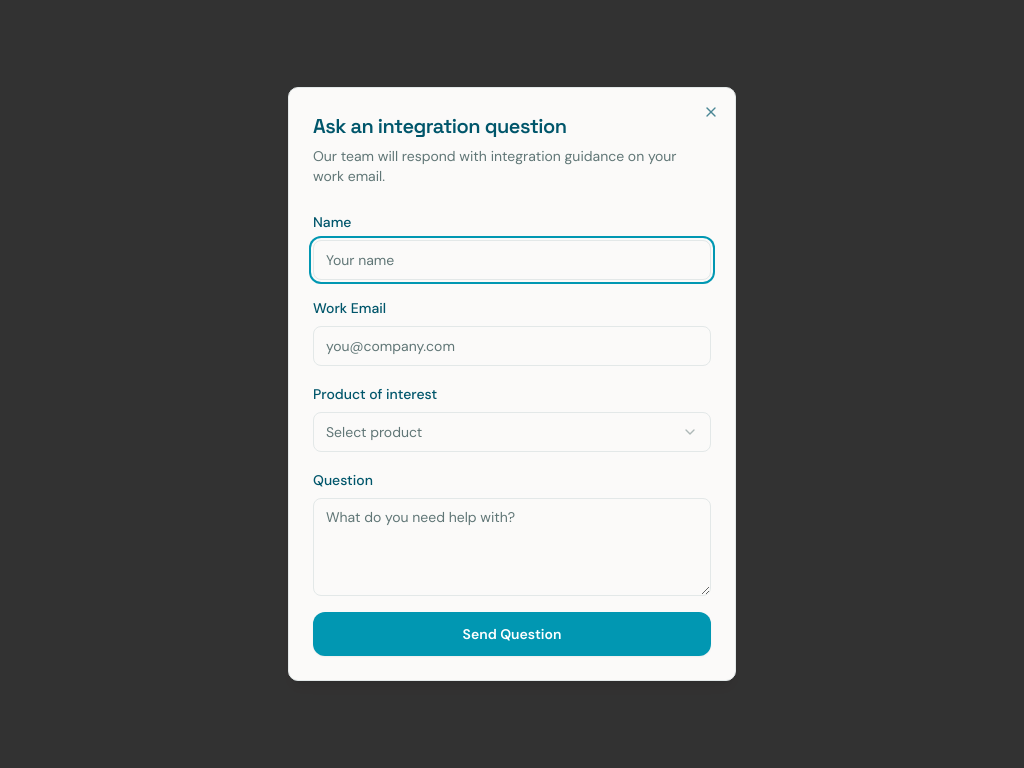
Scenario: contact and integration submission flows › shows an inline integration error instead of crashing on malformed lead responses
Type "Akash Dahiya" into the field labelled "Name" at (512, 260), box [313,240,711,280]
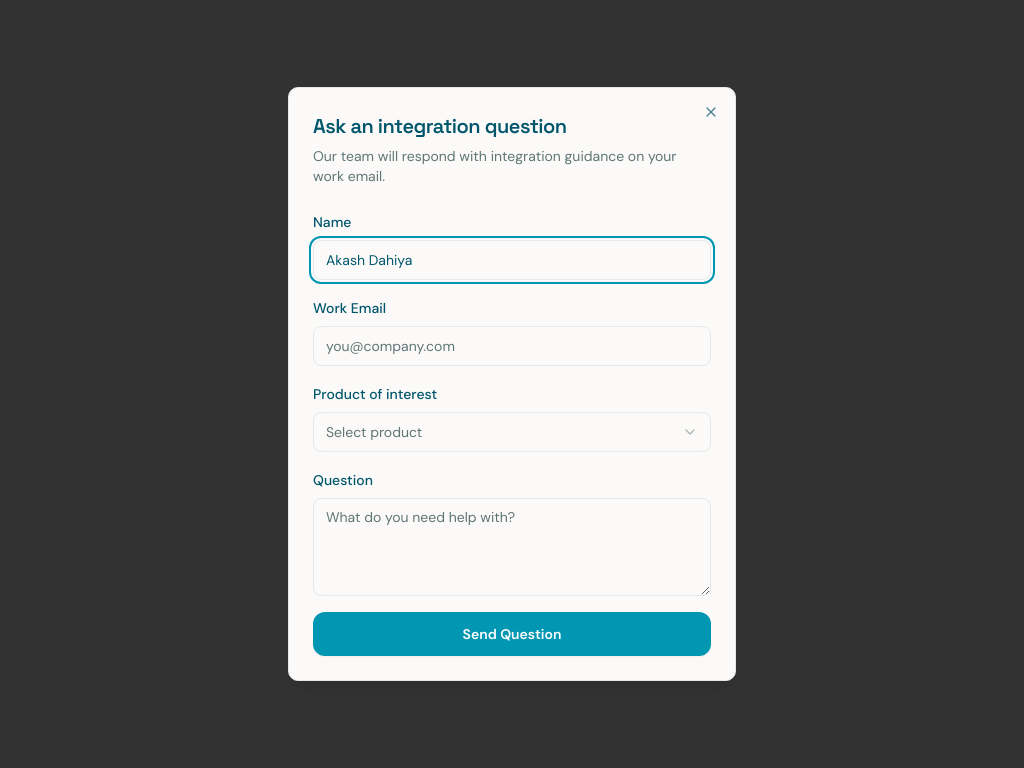
Type "akash@example.com" into the field labelled "Work Email" at (512, 346), box [313,326,711,366]
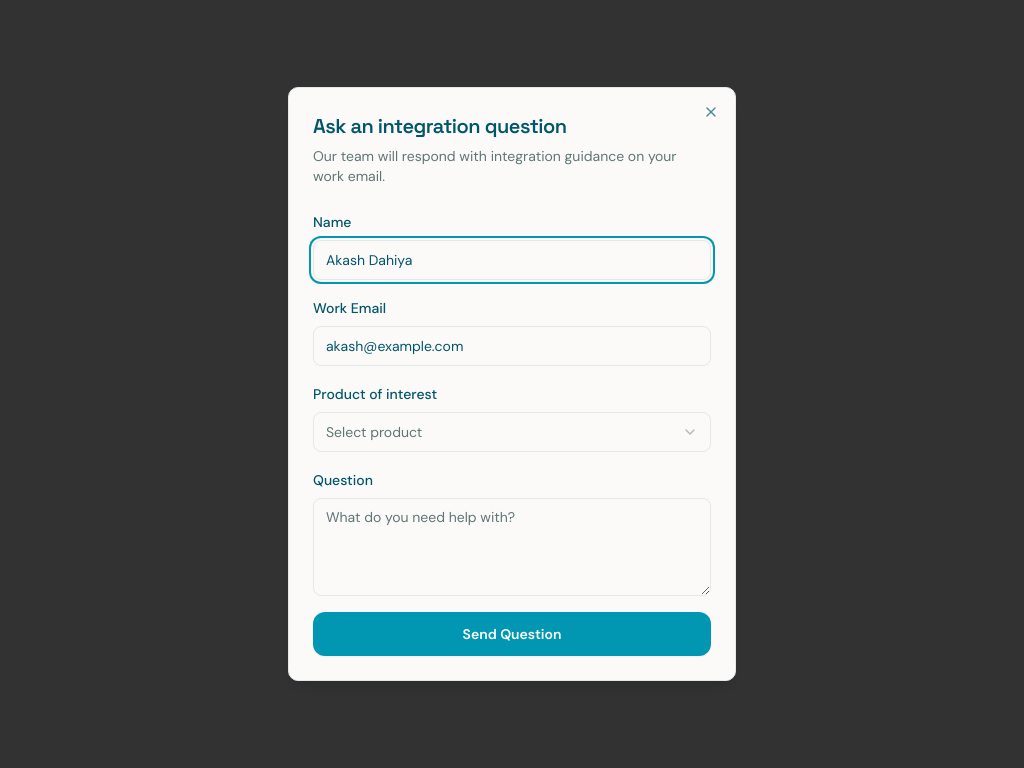
Type "Need help with checkout integration" into the text box labelled "Question" at (512, 547), box [313,498,711,596]
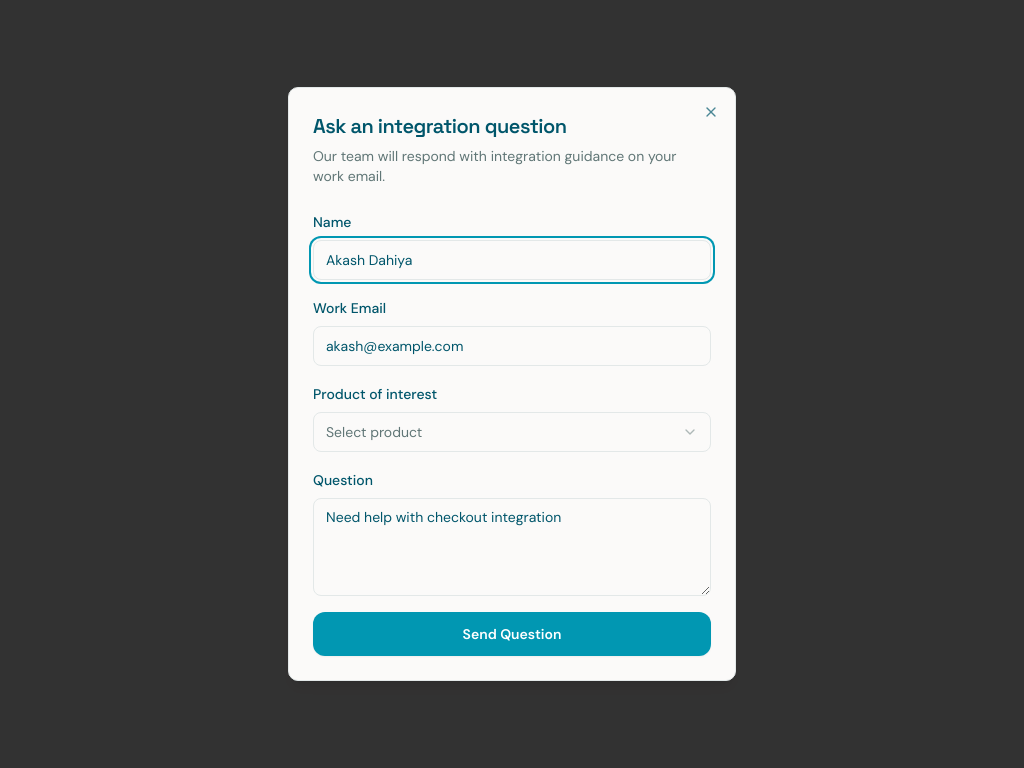
Submit the form, box [313,210,711,656]
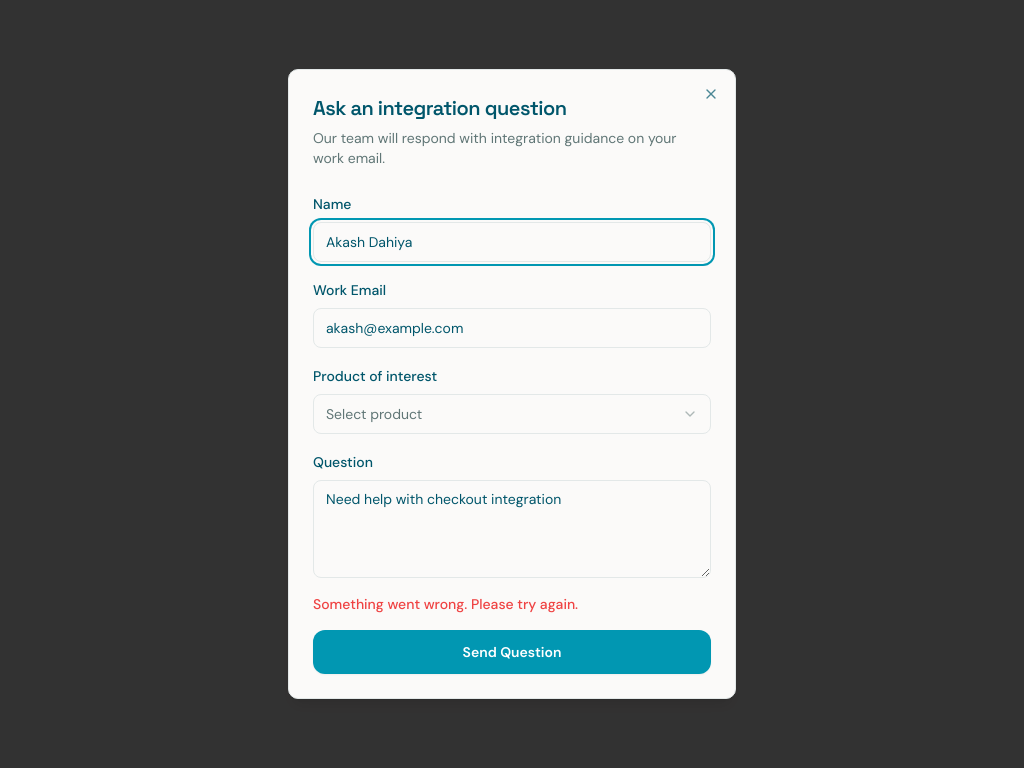
Expected: the text "Something went wrong. Please try again." is shown, [313,595,578,613]
